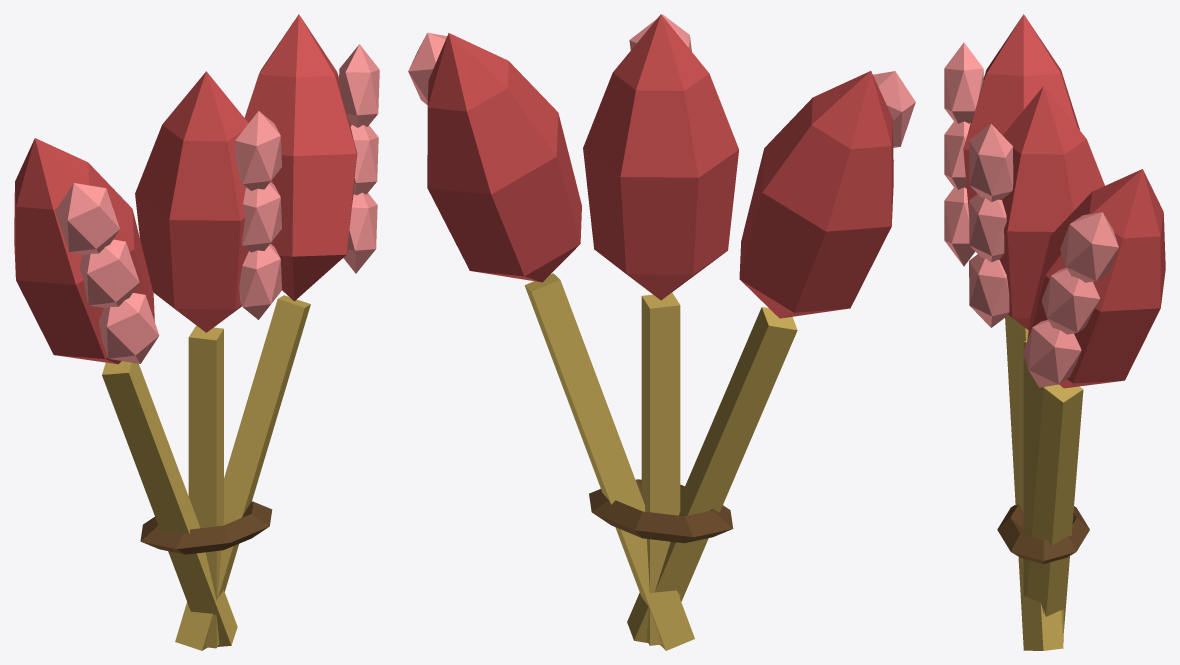
The model's file is wheat.glb.
3 views of the same model, side by side, from view 1: azimuth 30°, elevation 25°; view 2: azimuth 150°, elevation 25°; view 3: azimuth 270°, elevation 25° (orthographic). The views are drawn at different scales.
Visible parts, largest first — view 1: wheat; view 2: wheat; view 3: wheat.
Boxes of the visible parts, x1,y1,x2,y2 form: wheat: (14, 14, 379, 650); wheat: (408, 14, 915, 650); wheat: (944, 14, 1165, 650).
Bounding box in the file's own units: 0.2709 × 0.3743 × 0.1335.
